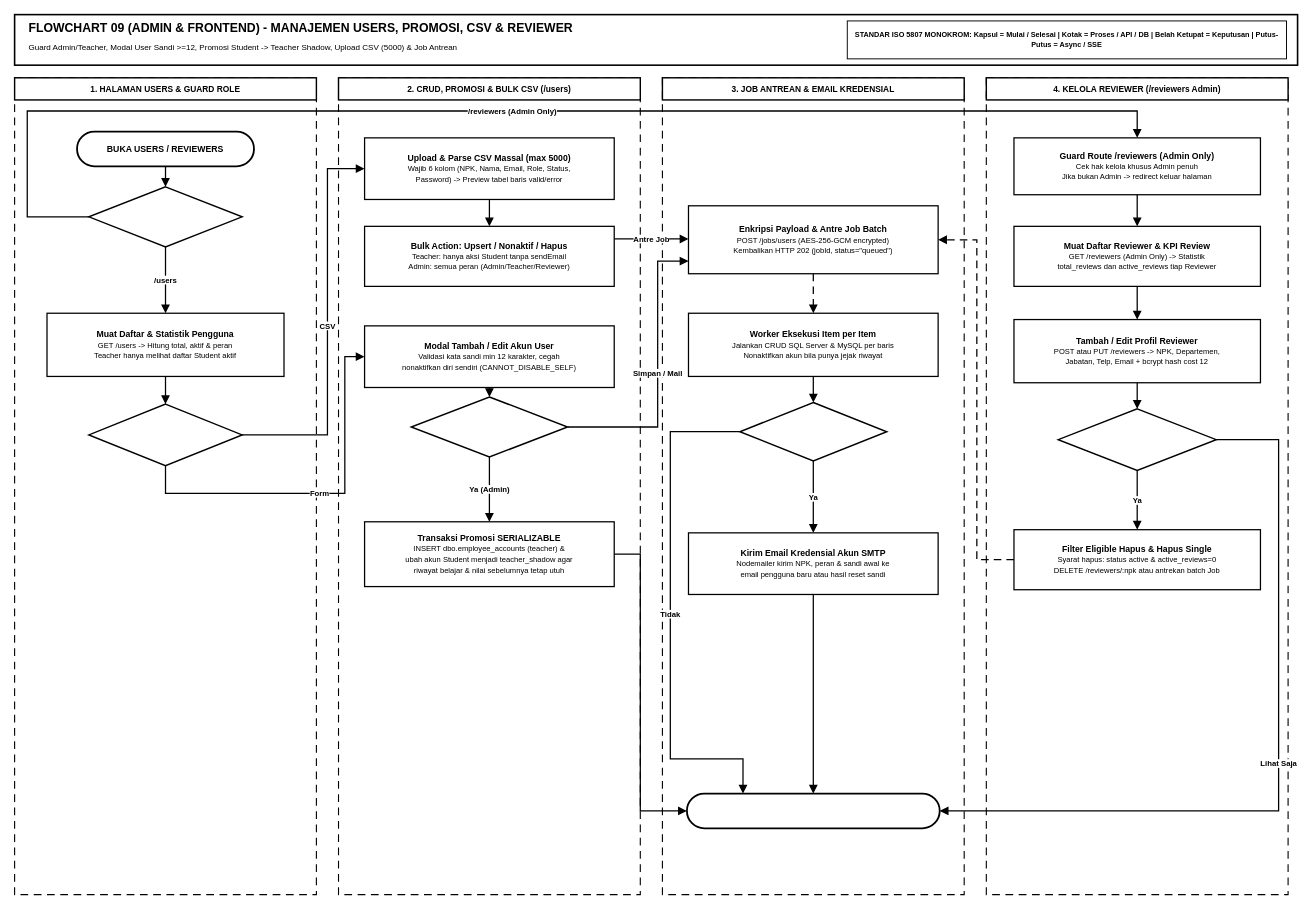
The diagram is 1311 pixels wide and 909 high, and some of its shapes have lost their labels. The shapes that lost their labels are listed below. From the top down, each one's centre as x and y in pixels, then its label:
At point 165,216: "Pilih Menu /users vs /reviewers?".
At point 165,434: "Pilih Aksi di /users?".
At point 489,426: "Promosi Akun: Student -> Teacher?".
At point 813,431: "Flag sendEmail Aktif & Valid?".
At point 1137,439: "Bulk Hapus Reviewer Eligible Dipilih?".
At point 813,810: "DATA PENGGUNA & REVIEWER UPDATE".
